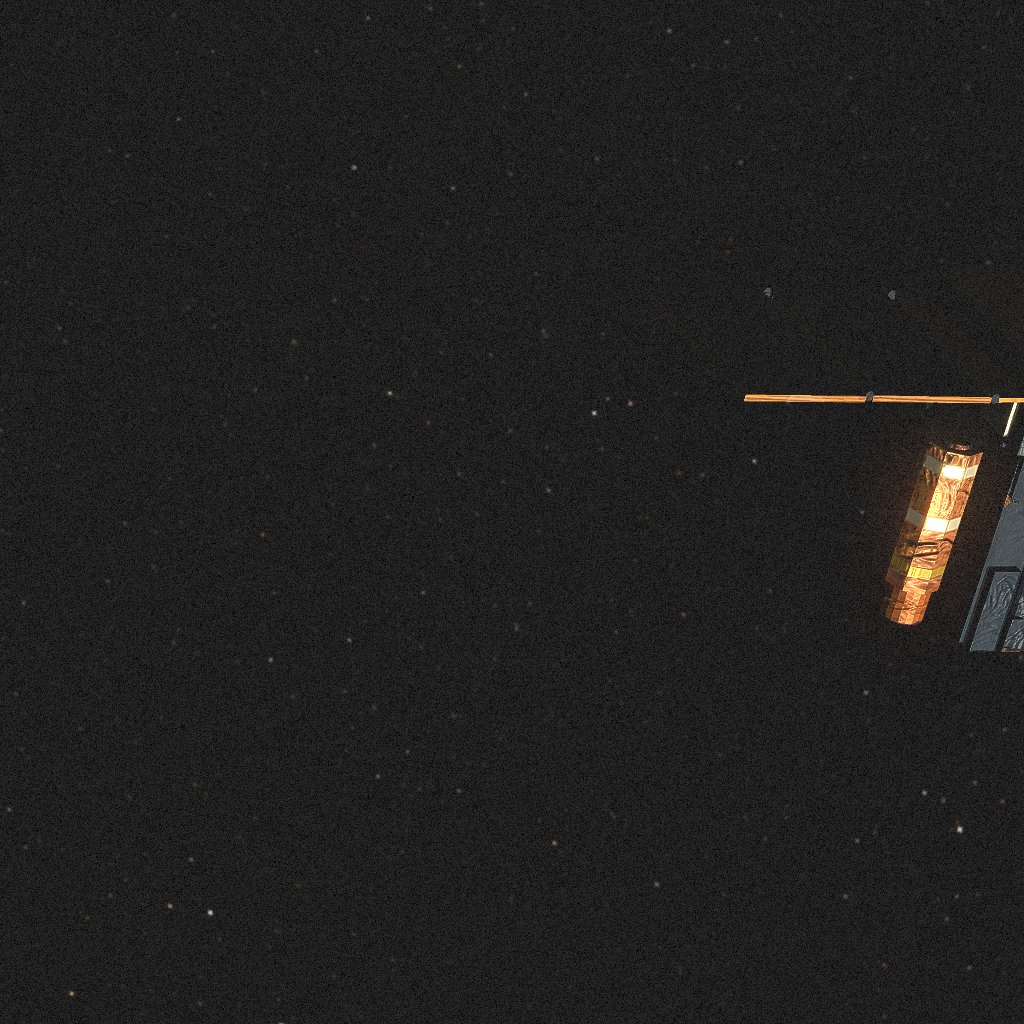soho: (644, 267, 1024, 652)
